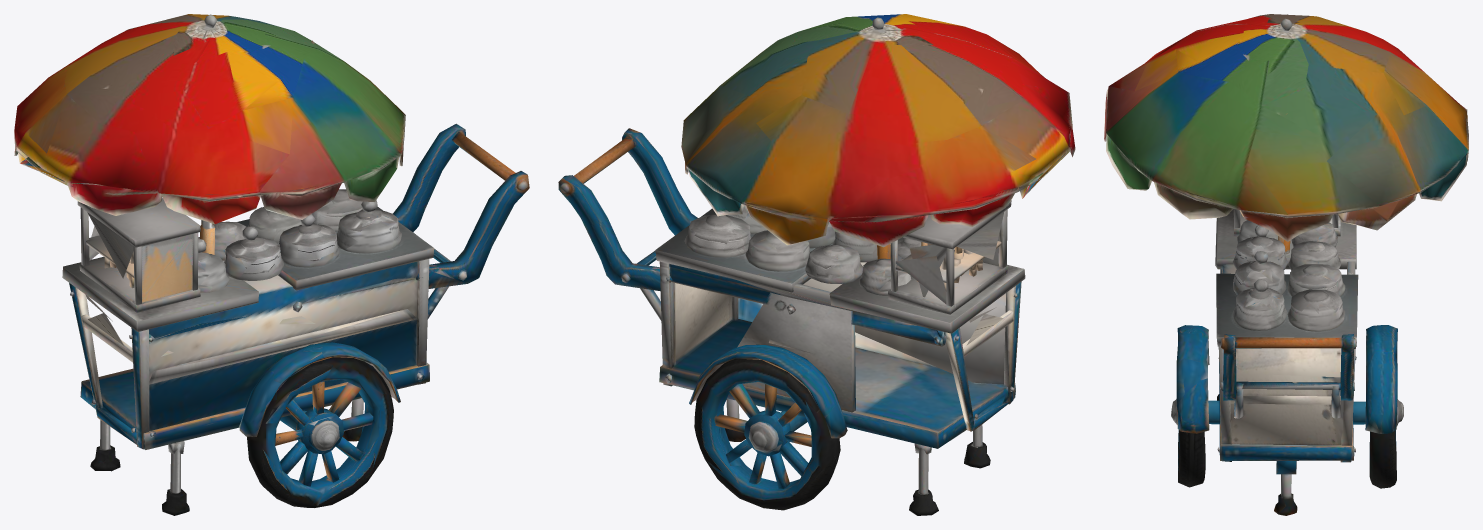
Rendered from ice_cream_cart.glb.
3 renders of one model, left to right at view 1: azimuth 30°, elevation 25°; view 2: azimuth 150°, elevation 25°; view 3: azimuth 270°, elevation 25°, orthographic. The views are drawn at different scales.
Parts seen in each view (by area): view 1: Mesh0; view 2: Mesh0; view 3: Mesh0.
Boxes of the visible parts, left/top/right/bottom form: Mesh0: left=14, top=14, right=529, bottom=515; Mesh0: left=558, top=14, right=1075, bottom=515; Mesh0: left=1104, top=14, right=1468, bottom=515.
Bounding box in the file's own units: 1 × 0.9846 × 0.7488.
1 material, 1 textured.
